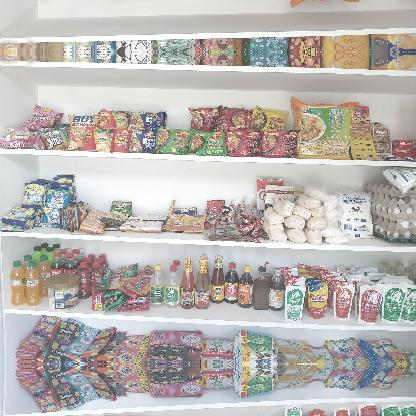Lady-s-Choice: (45, 272, 81, 310)
